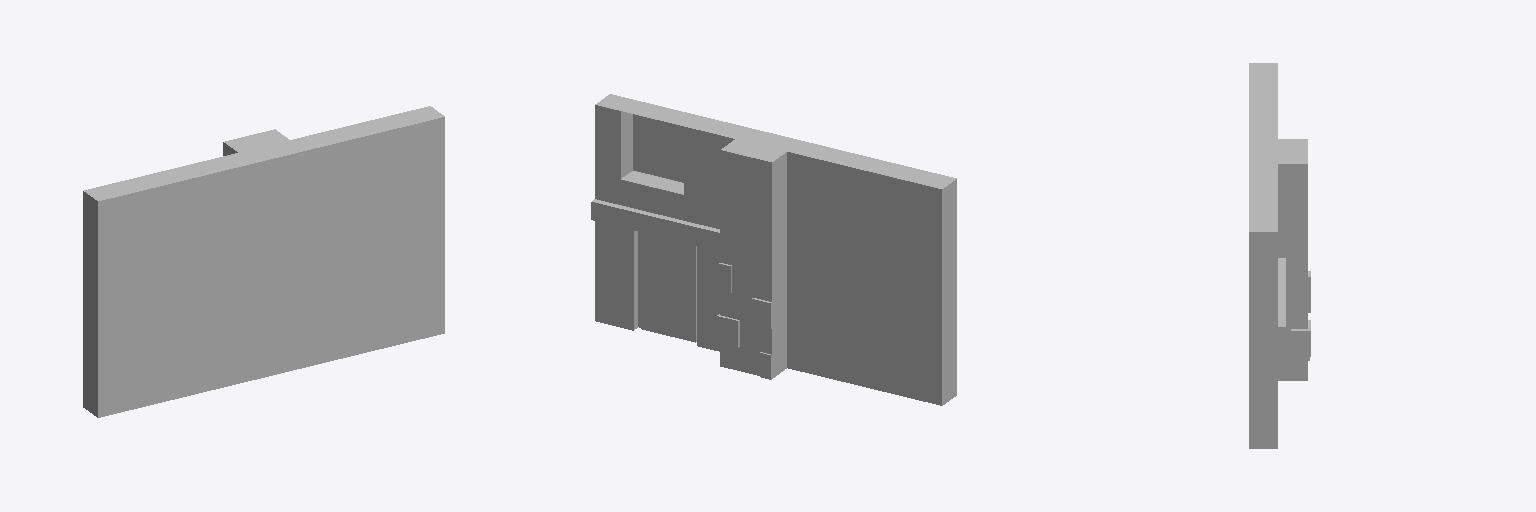
File: casadopato.obj
3 views of the same model, side by side, from view 1: azimuth 30°, elevation 25°; view 2: azimuth 150°, elevation 25°; view 3: azimuth 270°, elevation 25° (orthographic).
Parts seen in each view (by area): view 1: Cube_Cube.003; view 2: Cube_Cube.003; view 3: Cube_Cube.003.
Boxes of the visible parts, x1=… form: Cube_Cube.003: x1=83, y1=106, x2=444, y2=417; Cube_Cube.003: x1=591, y1=94, x2=956, y2=405; Cube_Cube.003: x1=1249, y1=63, x2=1310, y2=448.
Size of the model in its own units: 13.42 by 8 by 2.1.